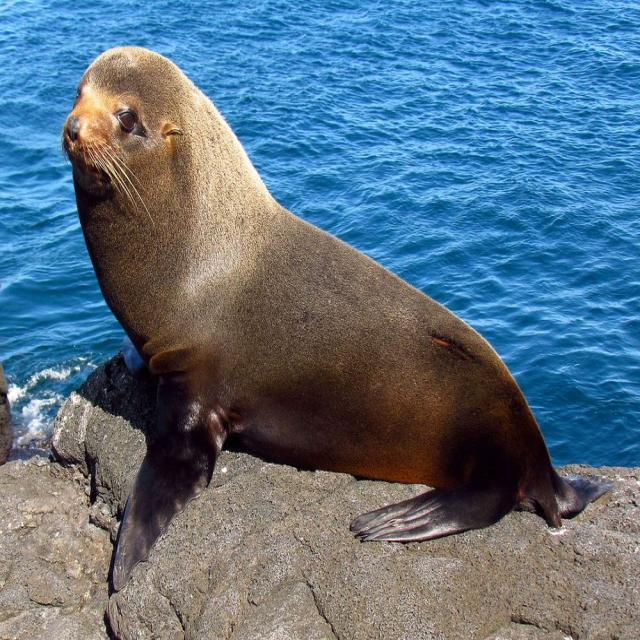WaterDog: (61, 41, 586, 565)
